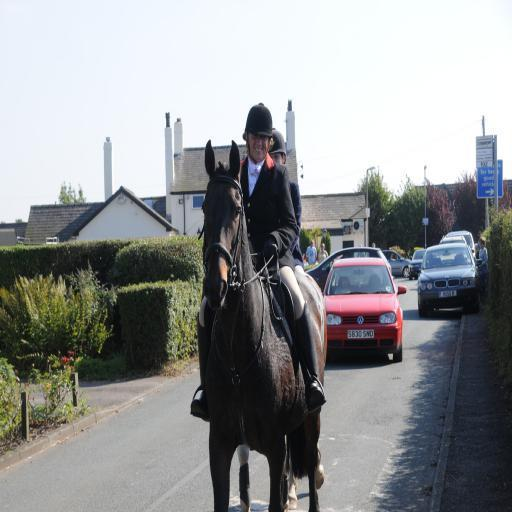horse: (202, 136, 328, 512)
